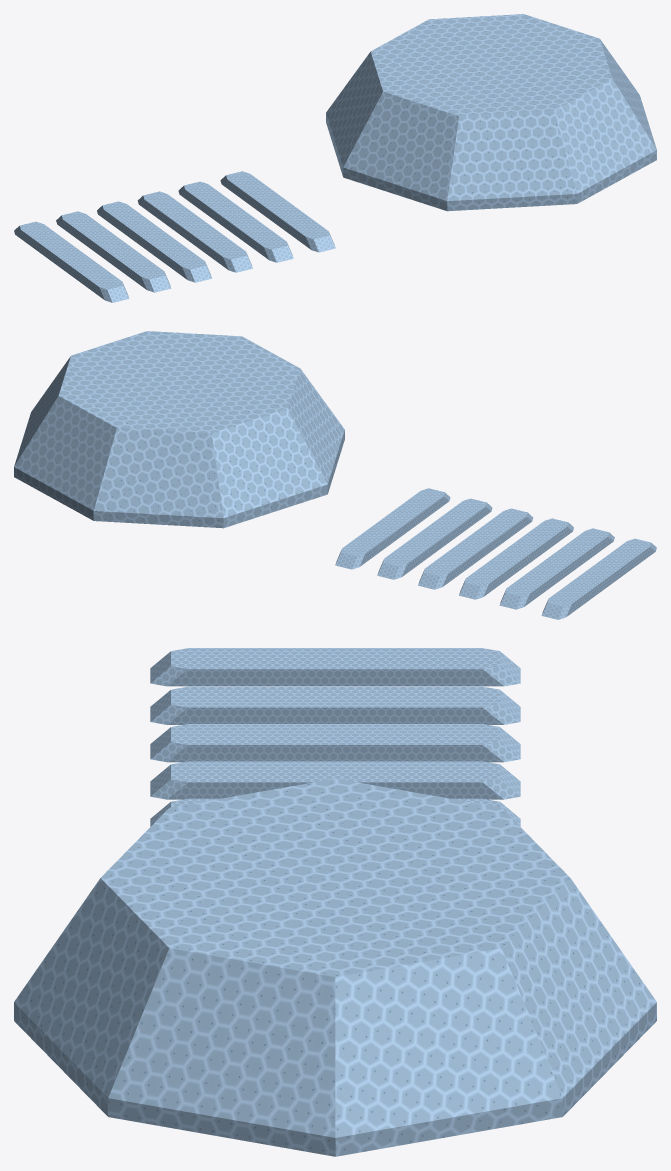
The model's file is asset.glb.
The picture shows the model from 3 angles, top to bottom: view 1: azimuth 30°, elevation 25°; view 2: azimuth 150°, elevation 25°; view 3: azimuth 270°, elevation 25°; orthographic projection. The views are drawn at different scales.
Parts seen in each view (by area): view 1: ProductionBioDomeTransparent_Circle.020, ProductionAgricultureModuleTransparent_Circle.1192; view 2: ProductionBioDomeTransparent_Circle.020, ProductionAgricultureModuleTransparent_Circle.1192; view 3: ProductionBioDomeTransparent_Circle.020, ProductionAgricultureModuleTransparent_Circle.1192.
Part boxes in pixels (left/top/right/bottom): ProductionBioDomeTransparent_Circle.020: left=326, top=14, right=656, bottom=211; ProductionAgricultureModuleTransparent_Circle.1192: left=14, top=171, right=335, bottom=302; ProductionBioDomeTransparent_Circle.020: left=14, top=331, right=344, bottom=528; ProductionAgricultureModuleTransparent_Circle.1192: left=335, top=488, right=656, bottom=619; ProductionBioDomeTransparent_Circle.020: left=14, top=778, right=656, bottom=1156; ProductionAgricultureModuleTransparent_Circle.1192: left=150, top=648, right=520, bottom=826.
Size of the model in its own units: 1782 by 286 by 912.
Materials: 1 (1 with a texture image).
